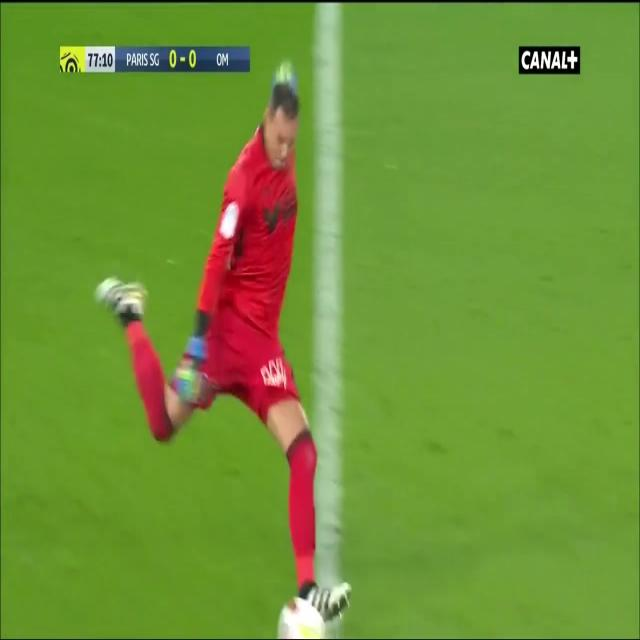Ball: (270, 594, 329, 639)
Goalkeeper: (96, 57, 355, 618)
